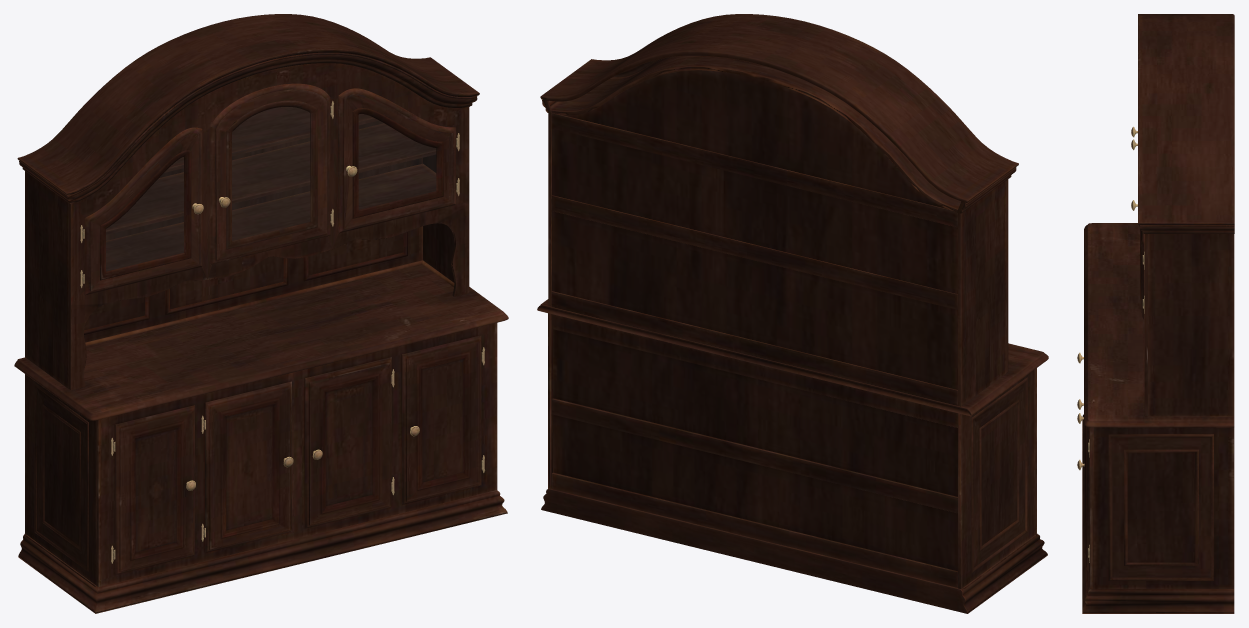
File: Armario_Antigo.glb
The picture shows the model from 3 angles, left to right: view 1: azimuth 30°, elevation 25°; view 2: azimuth 150°, elevation 25°; view 3: azimuth 270°, elevation 25°; orthographic projection. The views are drawn at different scales.
Parts seen in each view (by area): view 1: vintage_cabinet_01_body, vintage_cabinet_01_door_03, vintage_cabinet_01_door_01, vintage_cabinet_01_door_04, vintage_cabinet_01_door_07, vintage_cabinet_01_door_06, vintage_cabinet_01_door_02, vintage_cabinet_01_door_05; view 2: vintage_cabinet_01_body; view 3: vintage_cabinet_01_body, vintage_cabinet_01_door_02, vintage_cabinet_01_door_04.
Part boxes in pixels (x1,y1,x2,y2): vintage_cabinet_01_body: (14,14,508,613); vintage_cabinet_01_door_03: (210,83,332,264); vintage_cabinet_01_door_01: (83,127,203,295); vintage_cabinet_01_door_04: (338,88,458,233); vintage_cabinet_01_door_07: (304,357,392,528); vintage_cabinet_01_door_06: (204,381,293,552); vintage_cabinet_01_door_02: (401,335,483,504); vintage_cabinet_01_door_05: (113,405,195,574); vintage_cabinet_01_body: (537,14,1048,613); vintage_cabinet_01_body: (1082,14,1234,613); vintage_cabinet_01_door_02: (1077,426,1089,572); vintage_cabinet_01_door_04: (1131,200,1144,319).
Size of the model in its own units: 7.22 by 7.98 by 2.39.
Materials: 3 (2 with a texture image).
